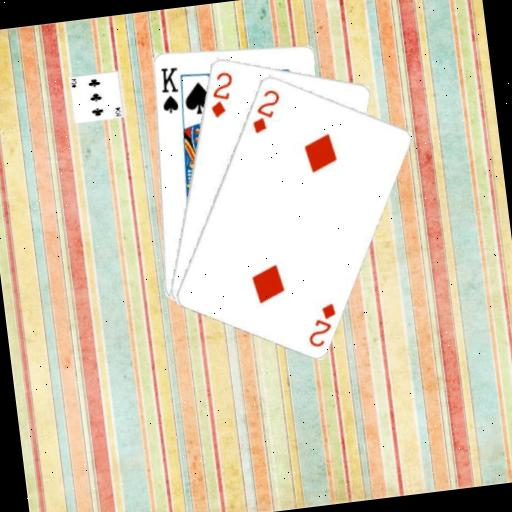2D: (301, 299, 342, 350), (245, 85, 285, 136), (203, 67, 238, 120)
KS: (154, 63, 184, 116)
